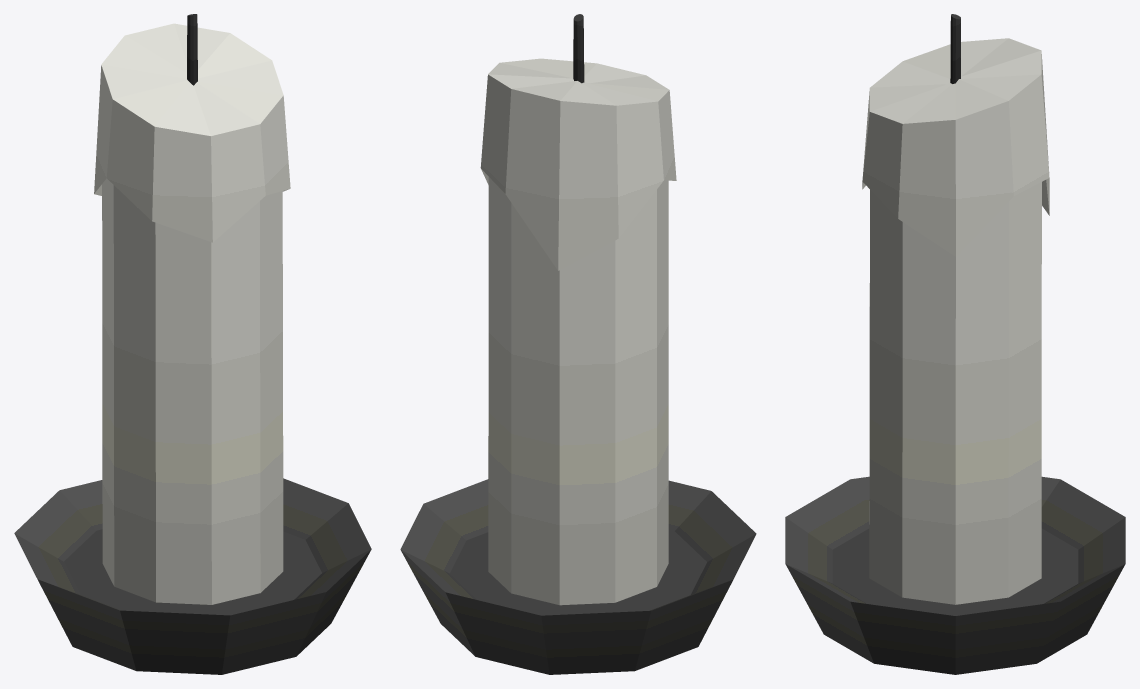
File: SM_TallCandle.fbx
3 views of the same model, side by side, from view 1: azimuth 30°, elevation 25°; view 2: azimuth 150°, elevation 25°; view 3: azimuth 270°, elevation 25° (orthographic).
Parts seen in each view (by area): view 1: tallCandle_GEO; view 2: tallCandle_GEO; view 3: tallCandle_GEO.
Part boxes in pixels (bbox=[...]): tallCandle_GEO: bbox=[14, 14, 371, 674]; tallCandle_GEO: bbox=[400, 14, 756, 674]; tallCandle_GEO: bbox=[785, 14, 1125, 674].
Bounding box in the file's own units: 11.44 × 21.22 × 10.88.
